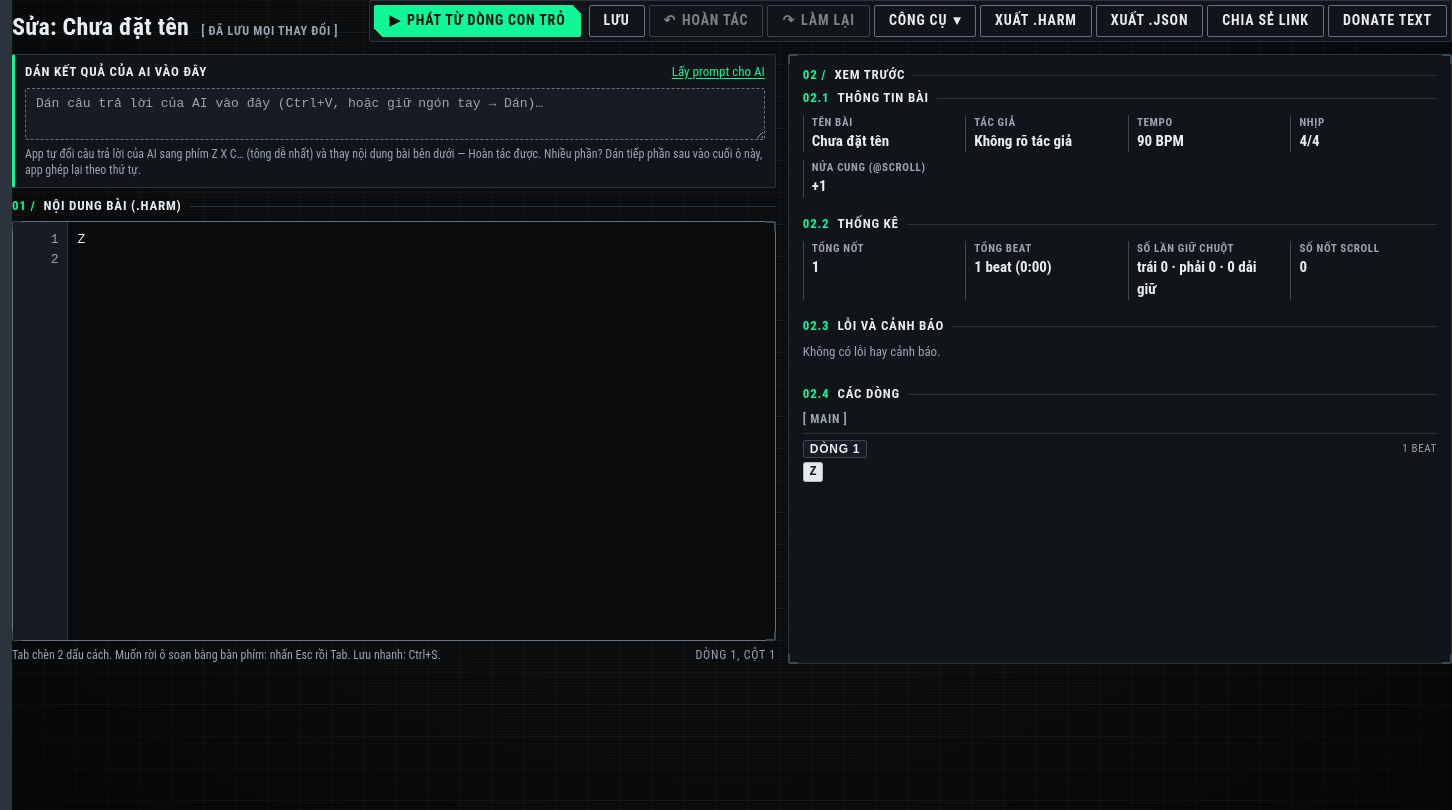
EditorView — ô dán kết quả AI › lần nhập sau một lần dán là gõ tay (không còn cờ "vừa dán"): chỉ xem trước
The width and height of the screenshot is (1452, 810).
// Dán nhưng không đổi gì (vd. dán ảnh / dán đè cùng chữ): chỉ có sự kiện paste, không có lần nhập.
Replace the text in the text box labelled "Dán kết quả của AI vào đây" with "do1 re1 mi1": (395, 114) [25,88,765,140]
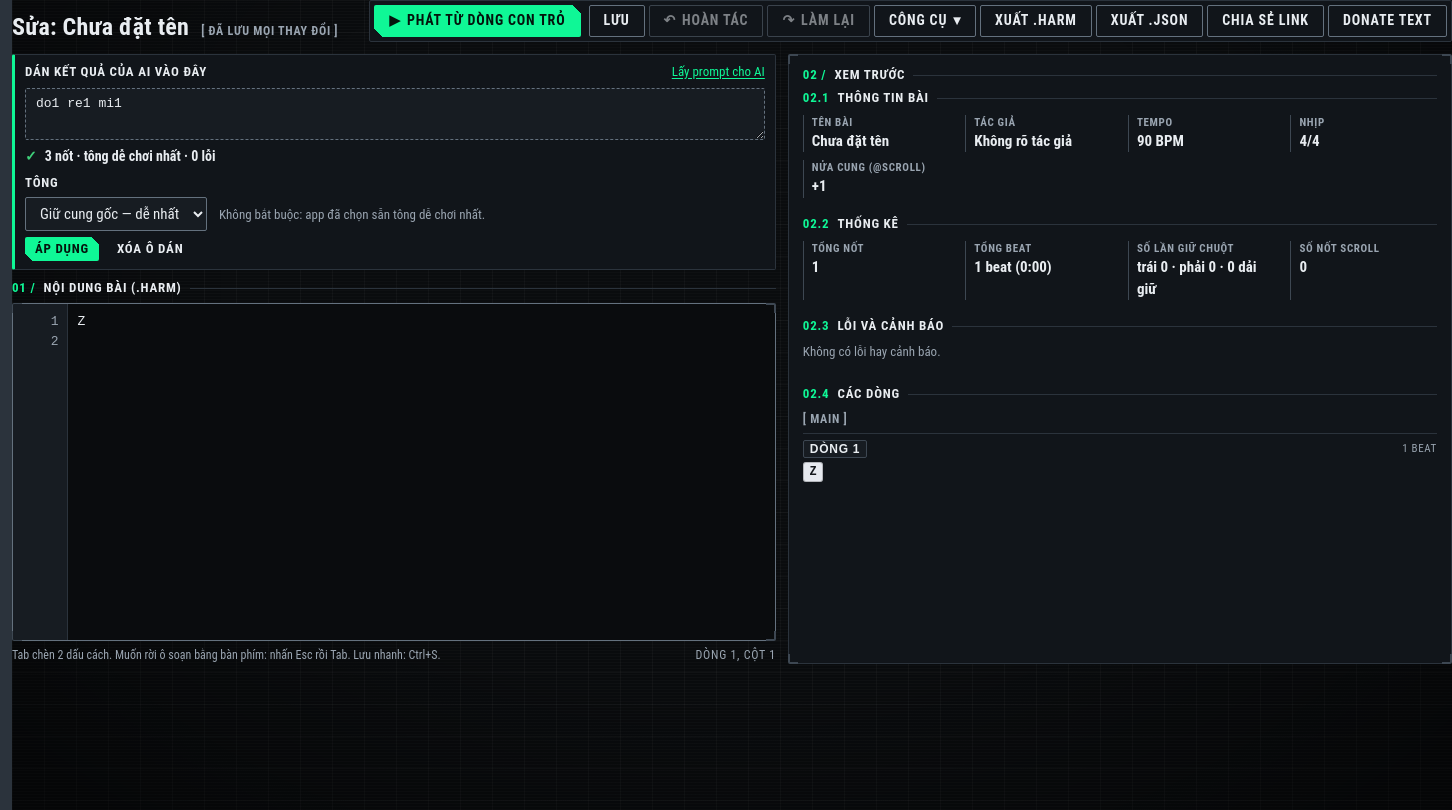
Check: the button "Áp dụng" is shown, box [25,237,99,261]
Replace the text in the text box labelled "Dán kết quả của AI vào đây" with "do1 re1 mi1 fa1": (395, 114) [25,88,765,140]
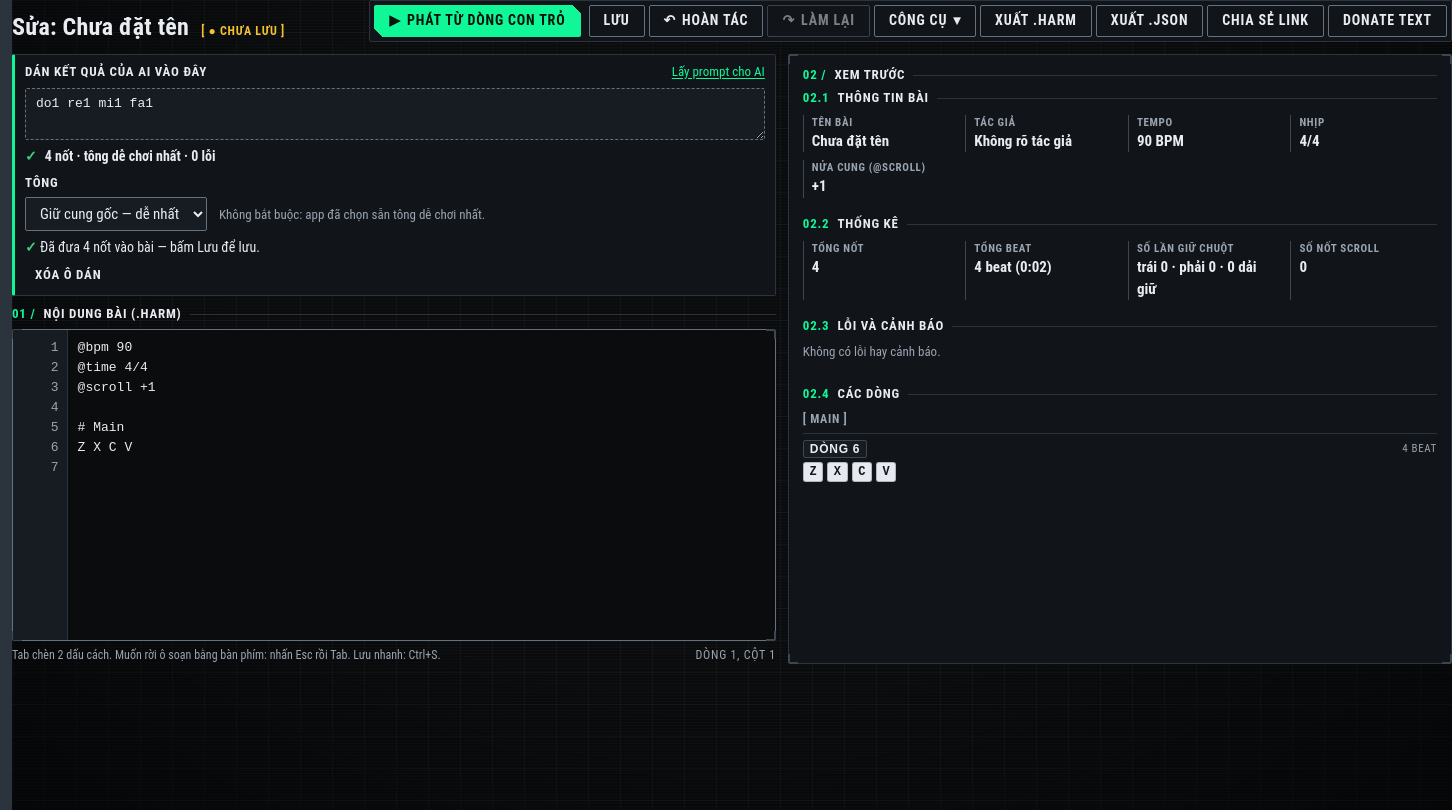
// Xóa bớt một nốt bằng tay: xem trước, bài giữ nguyên tới khi bấm Áp dụng.
Replace the text in the text box labelled "Dán kết quả của AI vào đây" with "do1 re1 mi1": (395, 114) [25,88,765,140]
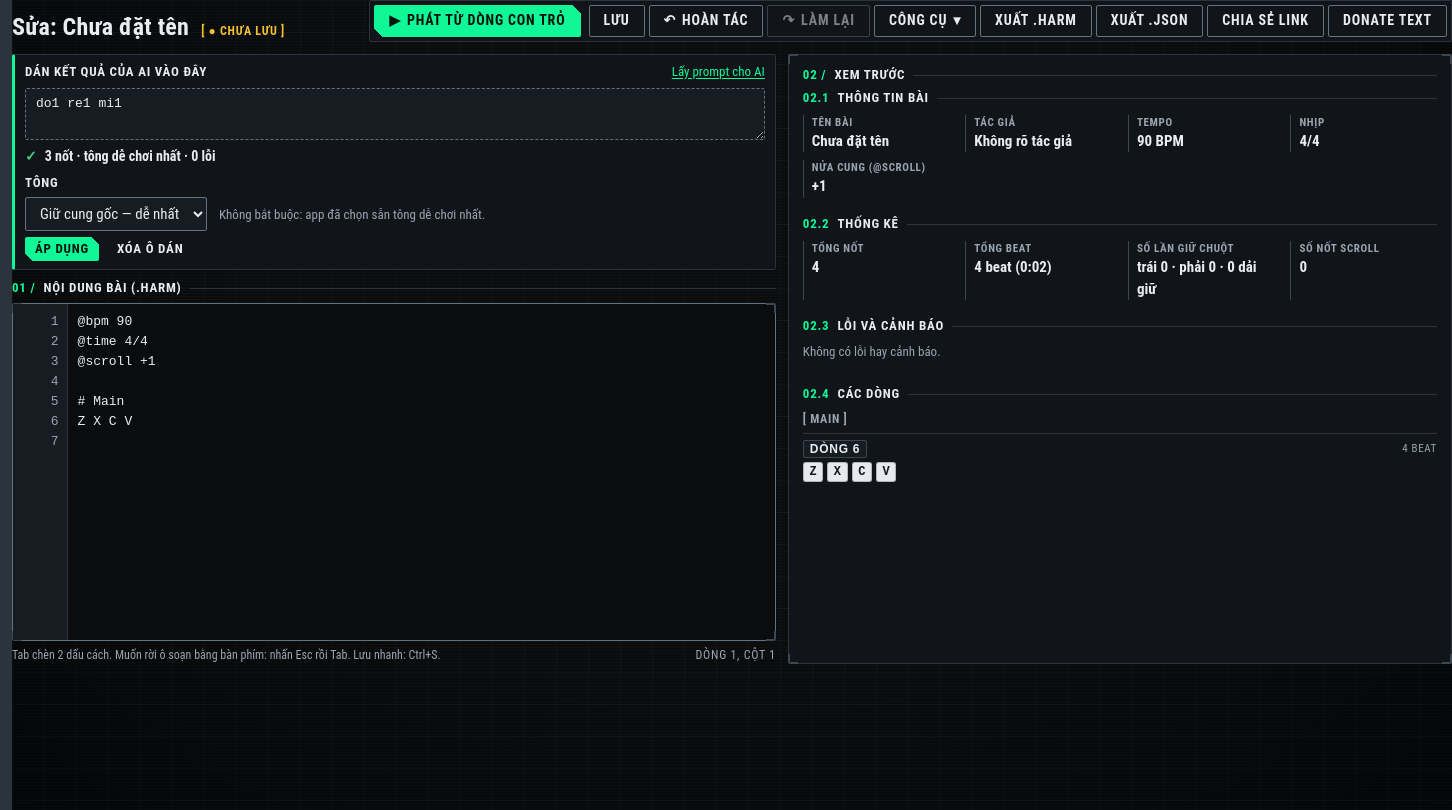
Check: the button "Áp dụng" is shown, box [25,237,99,261]
